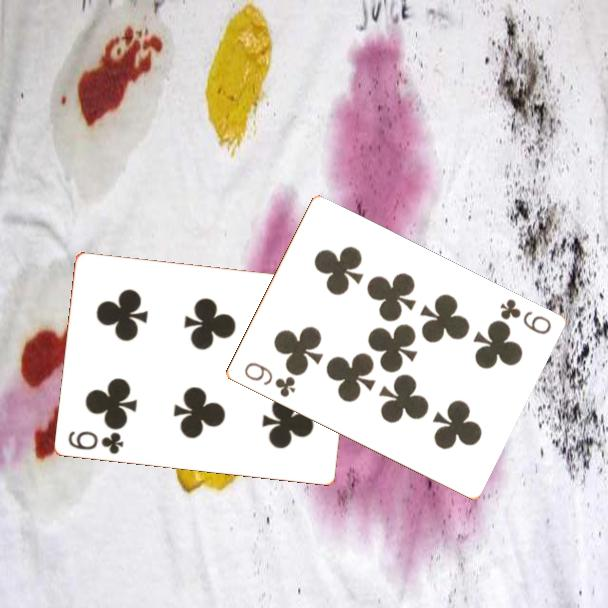c06: (65, 427, 127, 457)
c09: (496, 295, 554, 338), (240, 359, 298, 401)
